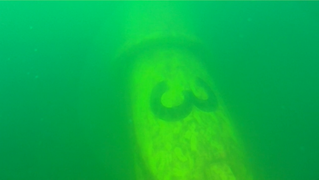3: (149, 75, 219, 122)
pipe: (108, 1, 257, 179)
